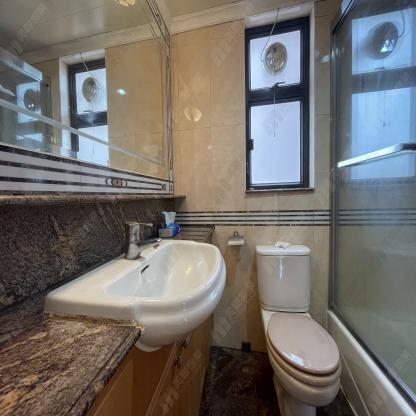Exhaust Fan: (260, 38, 290, 81)
Faucet: (117, 212, 155, 264)
Toilet: (255, 244, 344, 416)
Toilet Sink: (44, 237, 230, 354)
